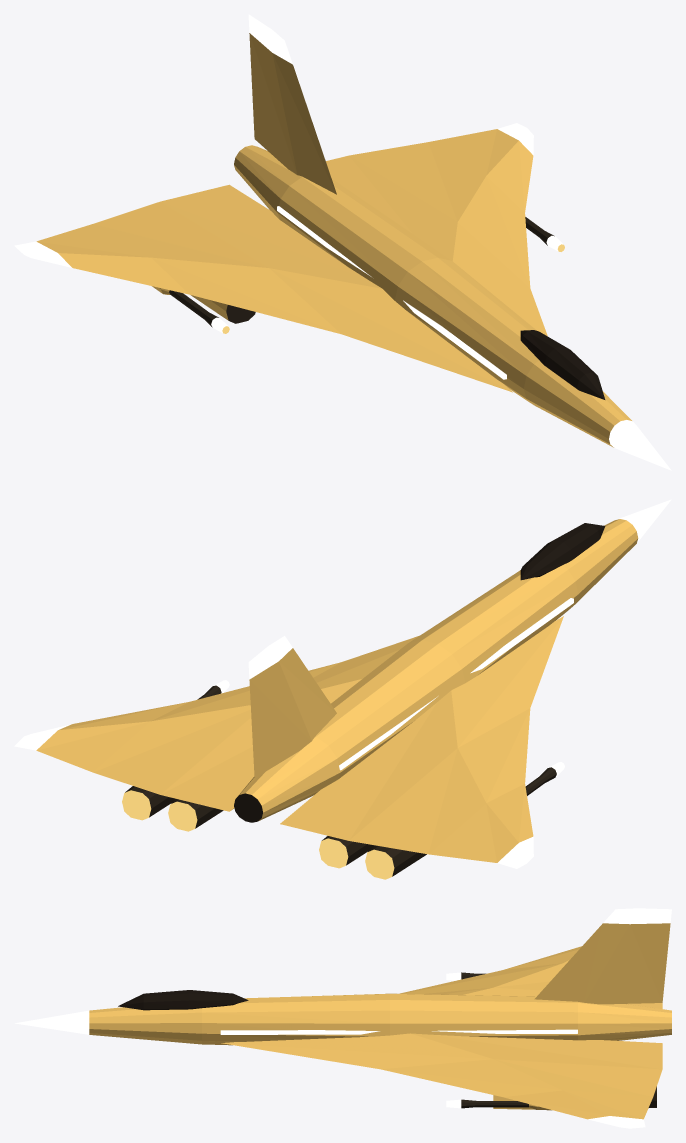
File: aurum.glb
3 views of the same model, one above another, from view 1: azimuth 30°, elevation 25°; view 2: azimuth 150°, elevation 25°; view 3: azimuth 270°, elevation 25° (orthographic). The views are drawn at different scales.
Visible parts, largest first — view 1: aurum; view 2: aurum; view 3: aurum.
Part boxes in pixels (left/top/right/bottom): aurum: left=14, top=14, right=671, bottom=470; aurum: left=14, top=499, right=671, bottom=879; aurum: left=15, top=908, right=671, bottom=1128.
Bounding box in the file's own units: 2.4 × 0.8969 × 3.5.
